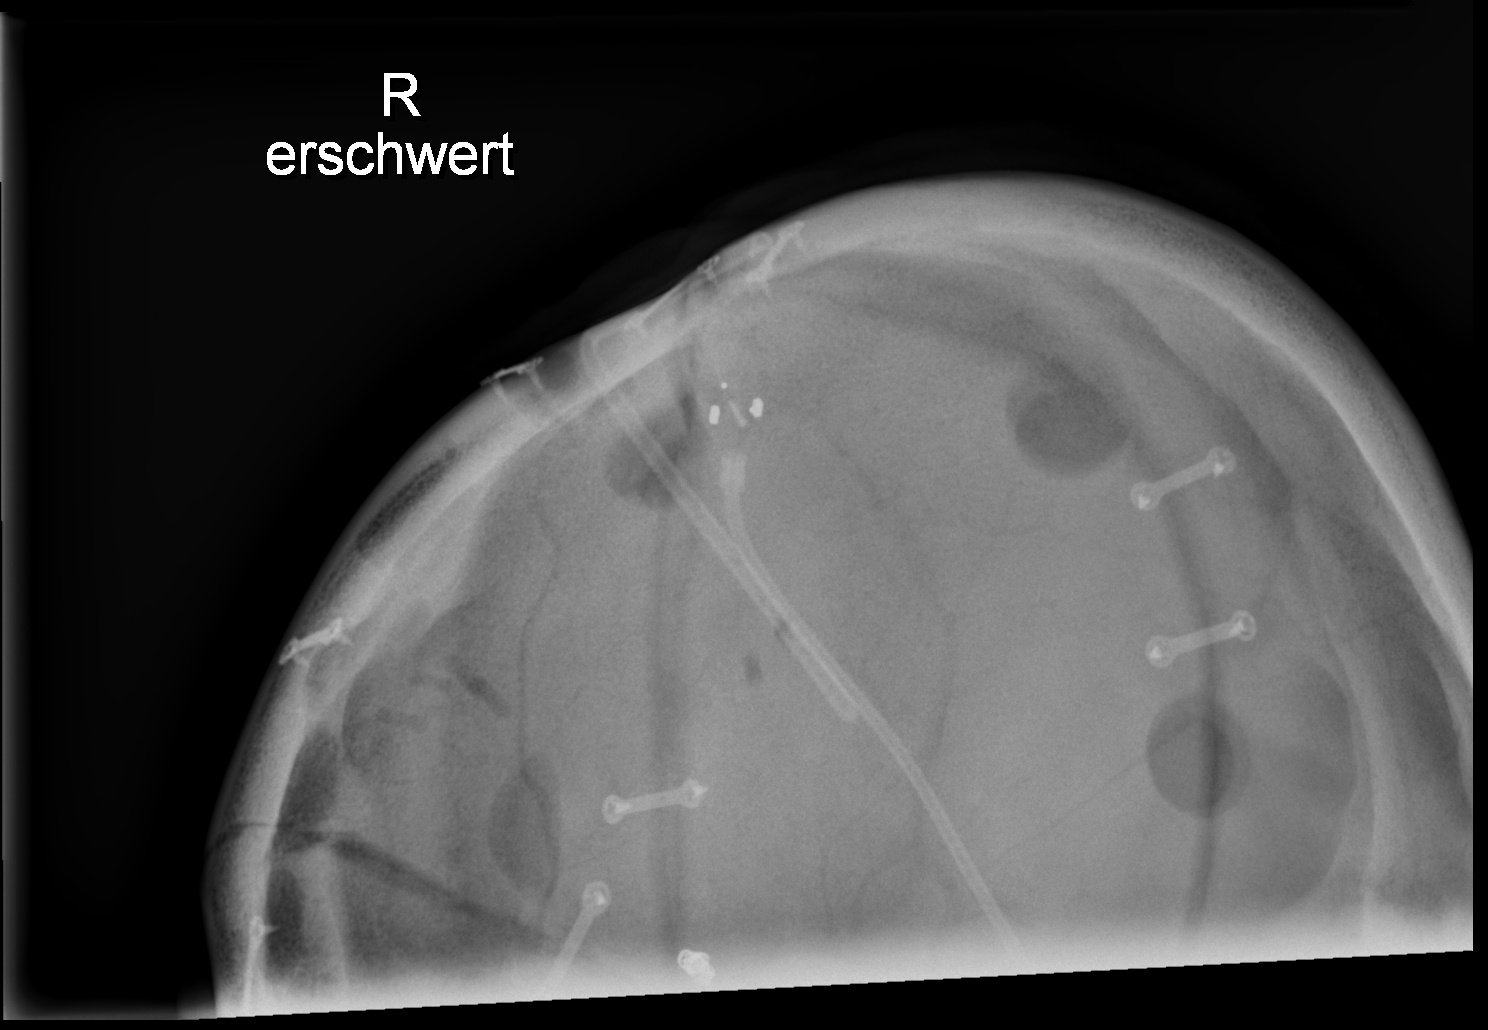Codman Certas: (695, 369, 782, 452)
